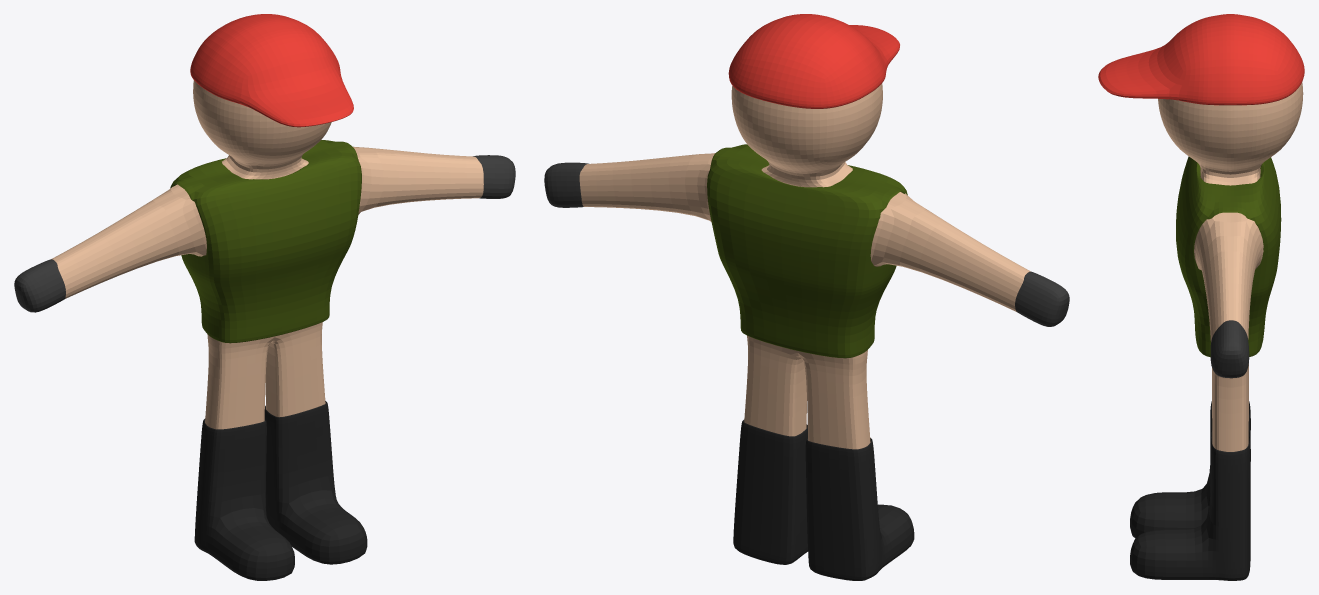
The model's file is human-test2.fbx.
3 views of the same model, side by side, from view 1: azimuth 30°, elevation 25°; view 2: azimuth 150°, elevation 25°; view 3: azimuth 270°, elevation 25° (orthographic). The views are drawn at different scales.
Parts seen in each view (by area): view 1: Cube, Cube.003, Cube.002, Cube.001, Cube.004; view 2: Cube, Cube.003, Cube.002, Cube.001, Cube.004; view 3: Cube, Cube.001, Cube.002, Cube.003, Cube.004.
Part boxes in pixels (x1,y1,x2,y2): Cube: (51,80,483,429); Cube.003: (170,140,361,343); Cube.002: (194,401,367,580); Cube.001: (190,14,353,127); Cube.004: (14,155,515,312); Cube: (579,83,1030,449); Cube.003: (707,144,907,358); Cube.002: (733,419,914,580); Cube.001: (728,14,899,108); Cube.004: (544,162,1069,326); Cube: (1158,82,1303,451); Cube.001: (1098,14,1304,105); Cube.002: (1130,401,1250,580); Cube.003: (1176,156,1281,357); Cube.004: (1210,320,1249,378).
Bounding box in the file's own units: 647 × 646 × 227.
